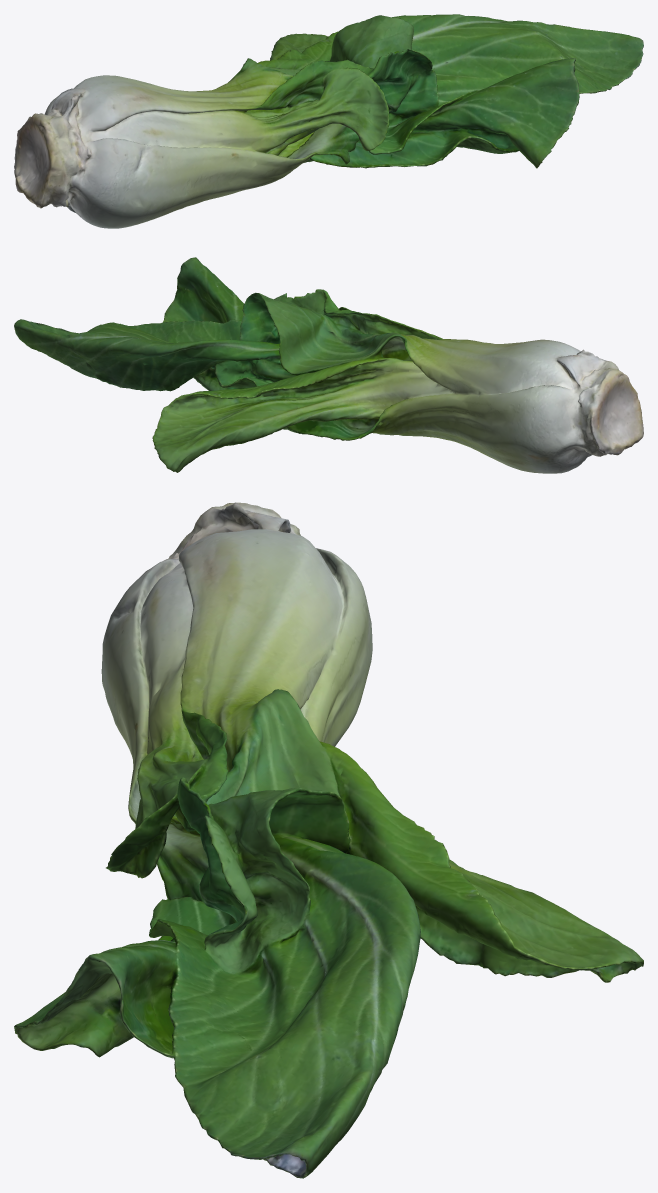
The model's file is produce_bocchoy_leafy_a03.glb.
The picture shows the model from 3 angles, top to bottom: view 1: azimuth 30°, elevation 25°; view 2: azimuth 150°, elevation 25°; view 3: azimuth 270°, elevation 25°; orthographic projection. The views are drawn at different scales.
Parts seen in each view (by area): view 1: bocchoy_01_mesh_00; view 2: bocchoy_01_mesh_00; view 3: bocchoy_01_mesh_00.
Boxes of the visible parts, x1,y1,x2,y2 form: bocchoy_01_mesh_00: (14, 14, 643, 228); bocchoy_01_mesh_00: (14, 257, 643, 473); bocchoy_01_mesh_00: (14, 502, 643, 1178).
Bounding box in the file's own units: 0.3351 × 0.0638 × 0.1698.
3 materials, 3 textured.
